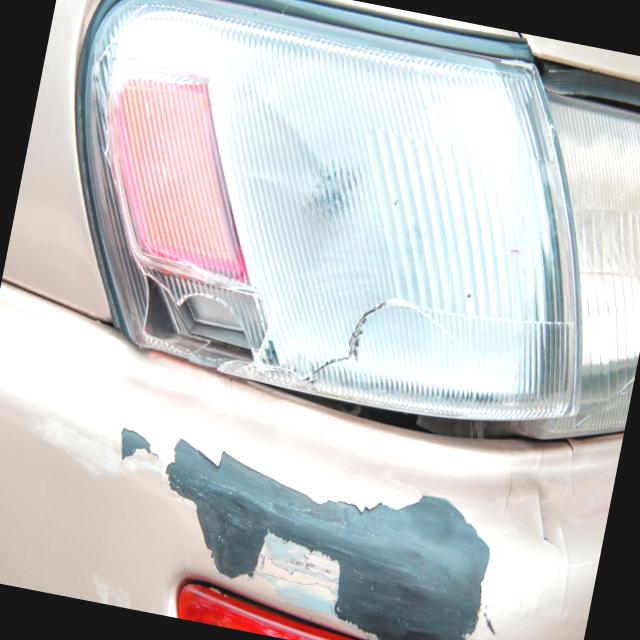Phare abime: (125, 232, 492, 432)
Rayure: (0, 348, 600, 640)
